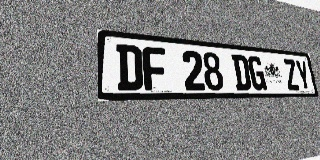2: (182, 50, 205, 90)
8: (202, 51, 224, 90)
D: (116, 44, 144, 90), (231, 54, 252, 90)
F: (142, 46, 168, 90)
G: (247, 56, 267, 90)
Y: (295, 60, 312, 90)
Z: (282, 59, 300, 90)
